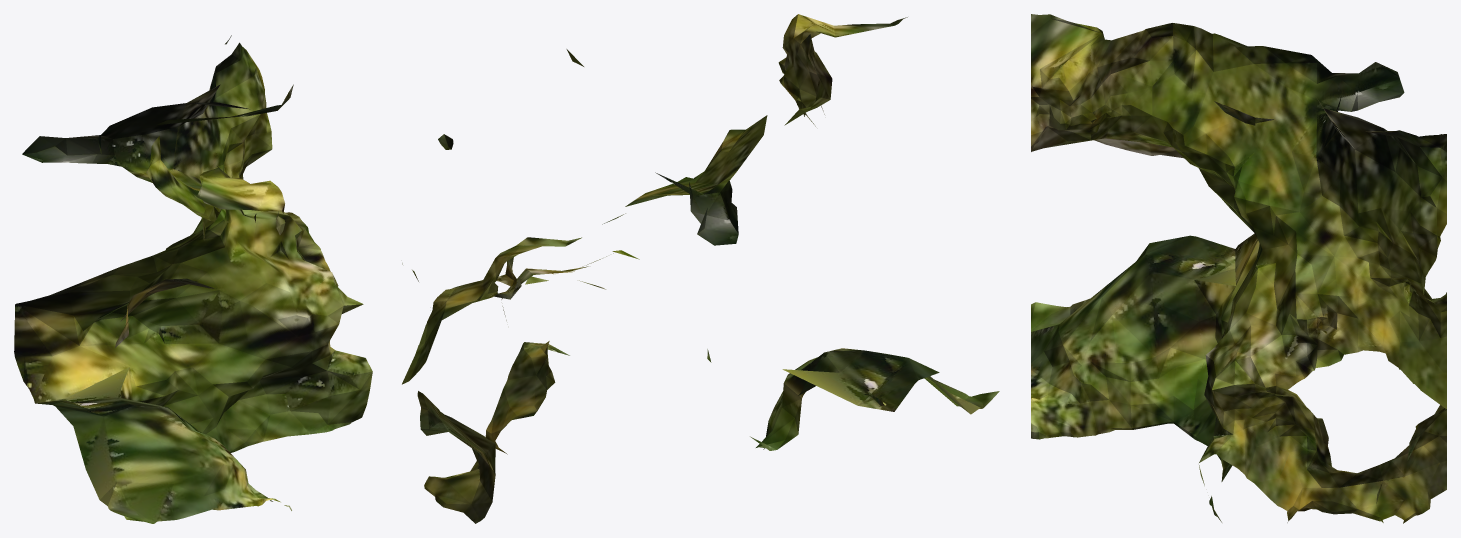
3 views of the same model, side by side, from view 1: azimuth 30°, elevation 25°; view 2: azimuth 150°, elevation 25°; view 3: azimuth 270°, elevation 25° (orthographic). The views are drawn at different scales.
Size of the model in its own units: 1.67 by 1.67 by 1.67.
Materials: 5 (5 with a texture image).
